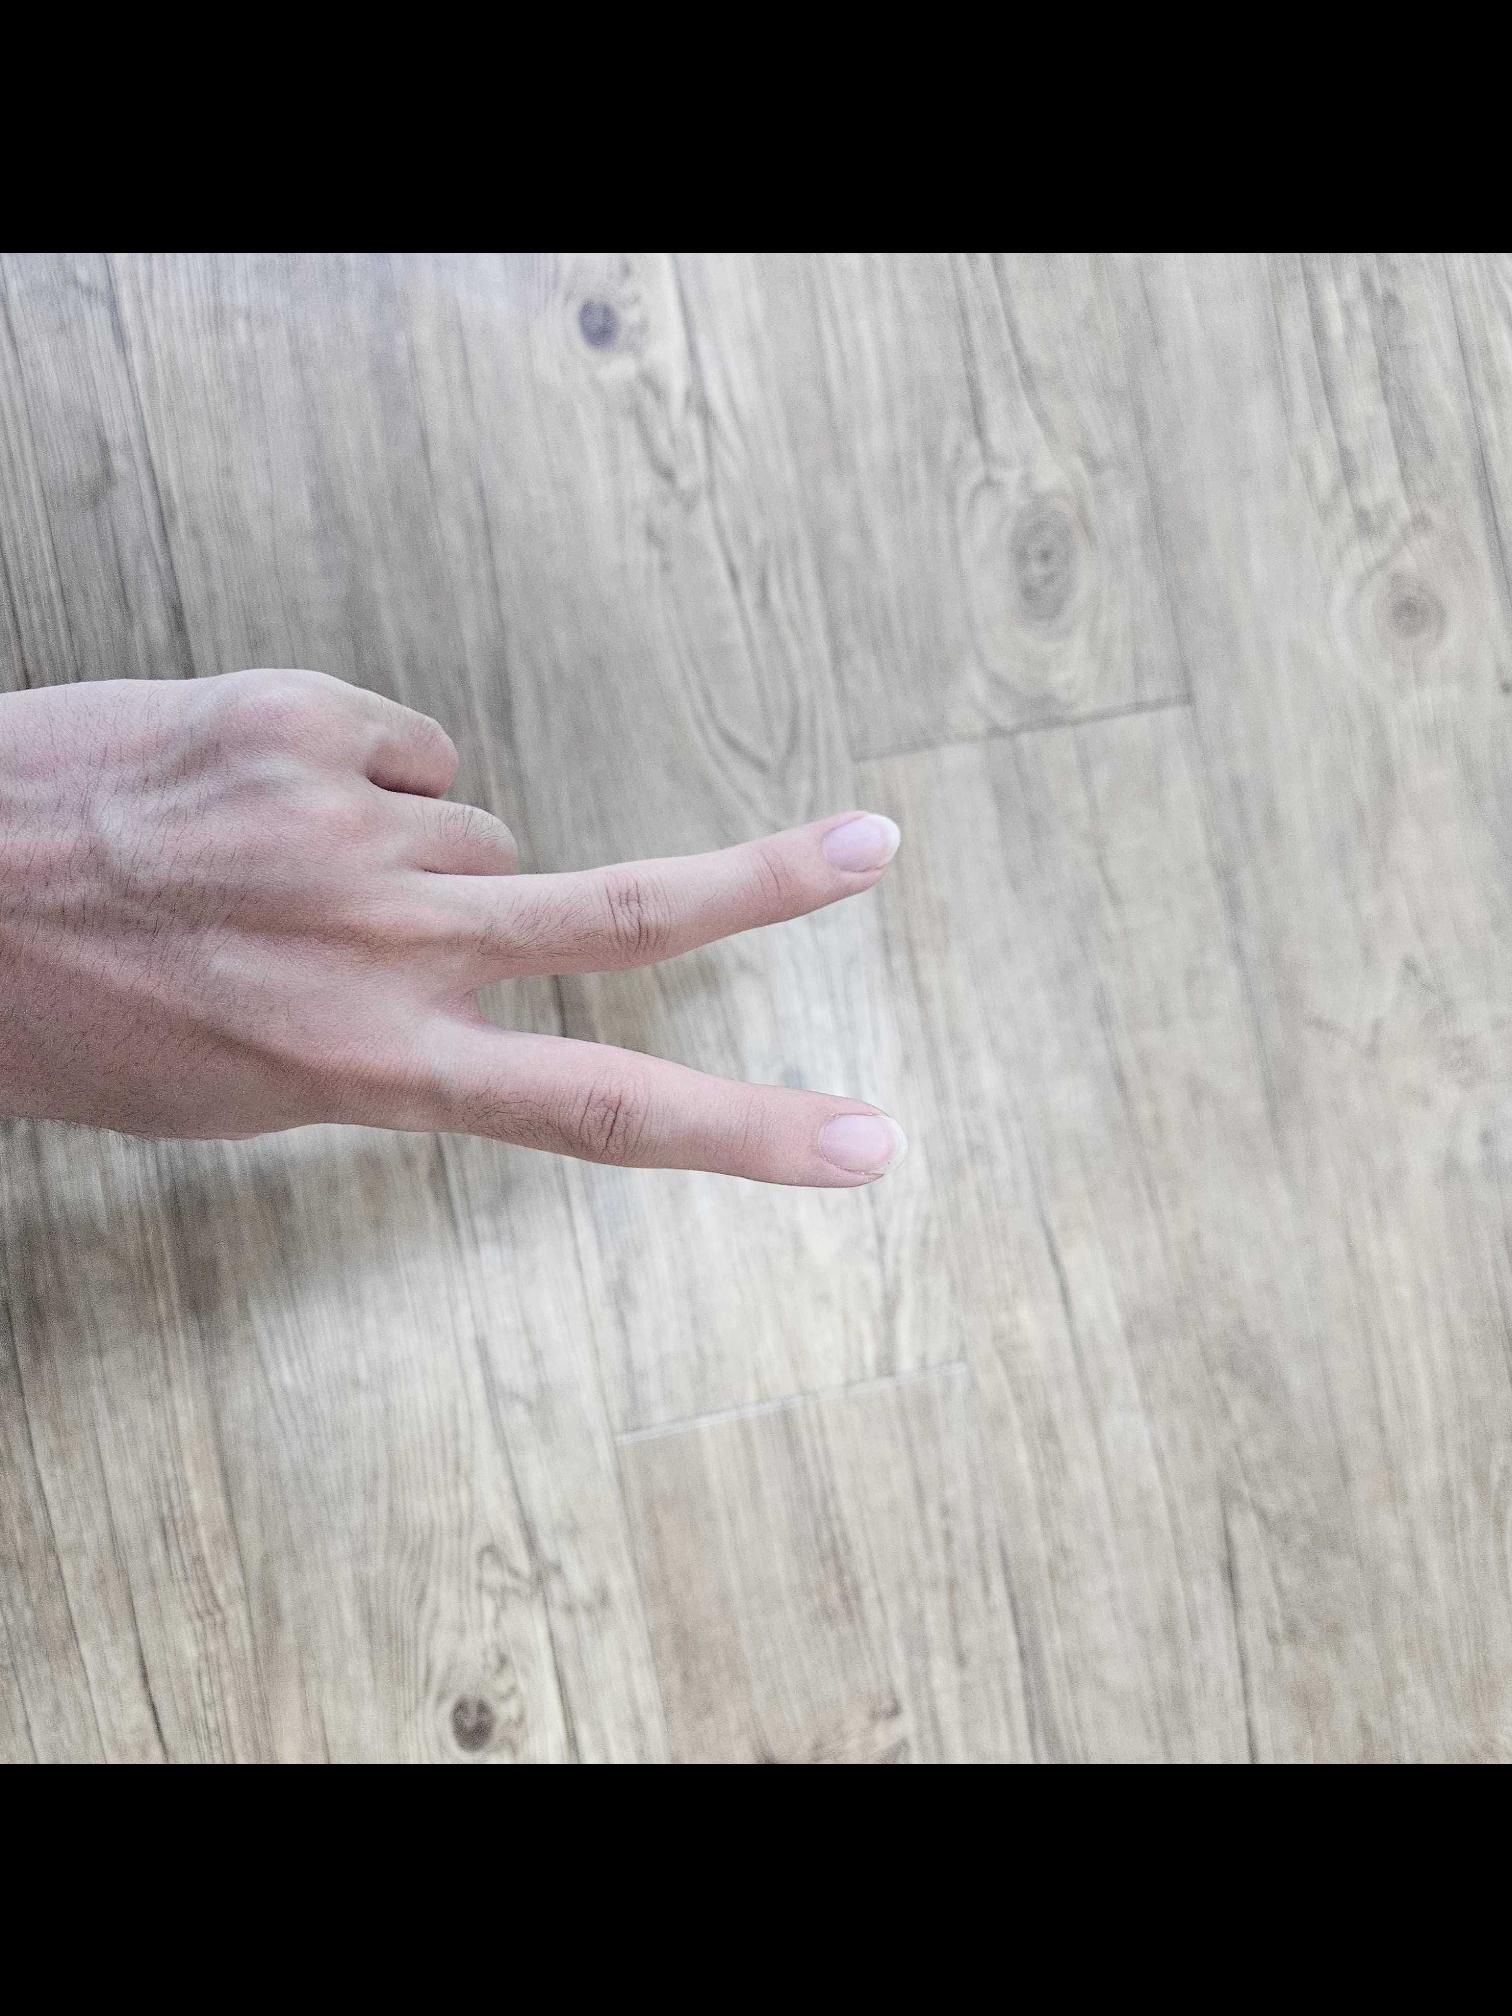v: (0, 638, 912, 1195)
